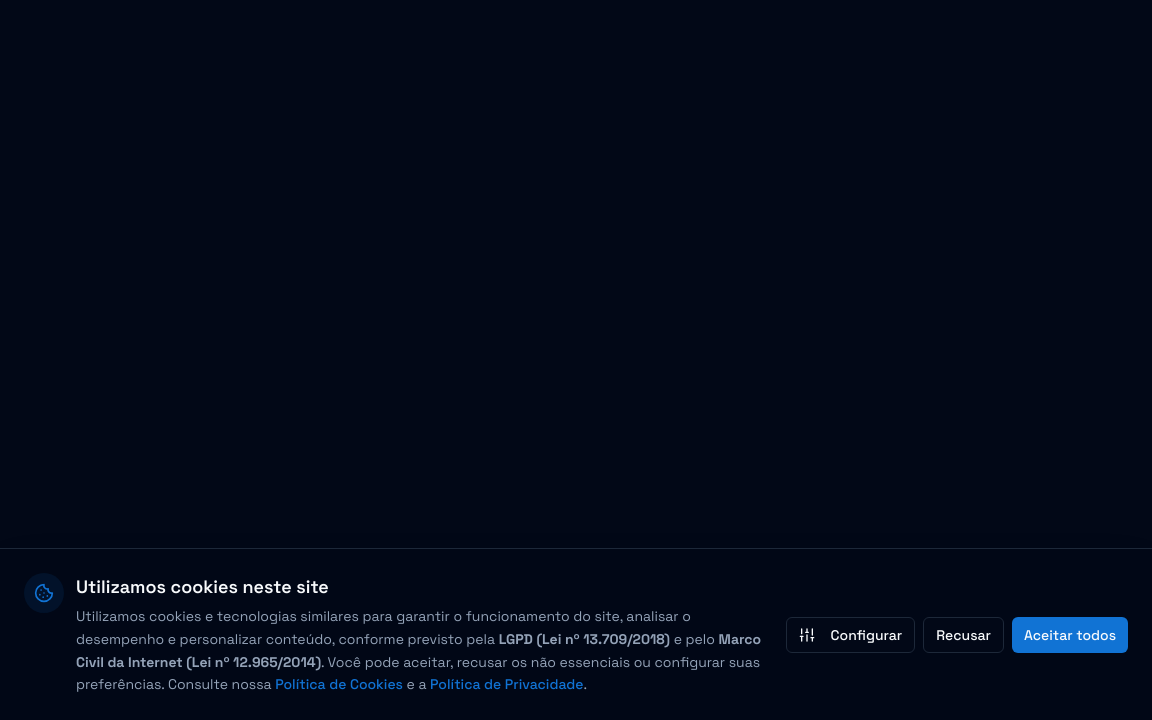
Test case: CookieConsentBanner - keyboard accessibility › allows fully reaching action buttons via Tab cycling
The image size is (1152, 720).
Click the button "Configurar" at {"x": 850, "y": 634}, box left=786, top=616, right=915, bottom=652
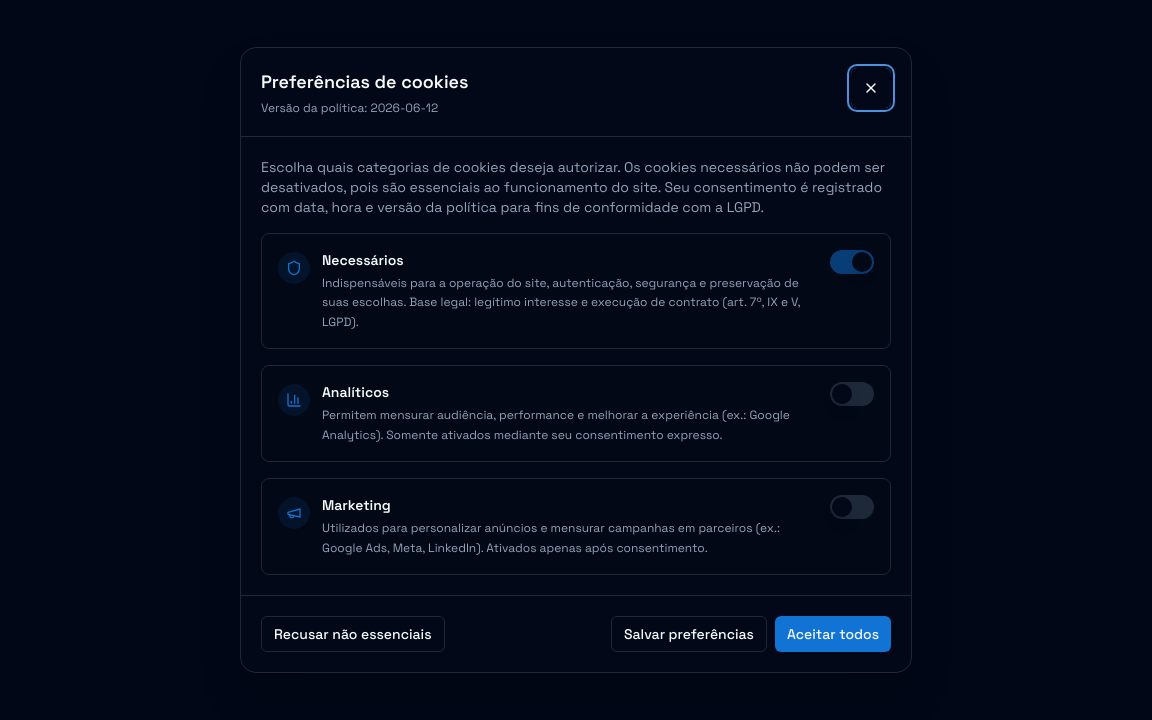
Check: the button "Aceitar todos" is shown, box left=775, top=616, right=891, bottom=652
Check: the button "Salvar preferências" is shown, box left=611, top=616, right=767, bottom=652
Check: the button "Recusar não essenciais" is shown, box left=261, top=616, right=444, bottom=652
